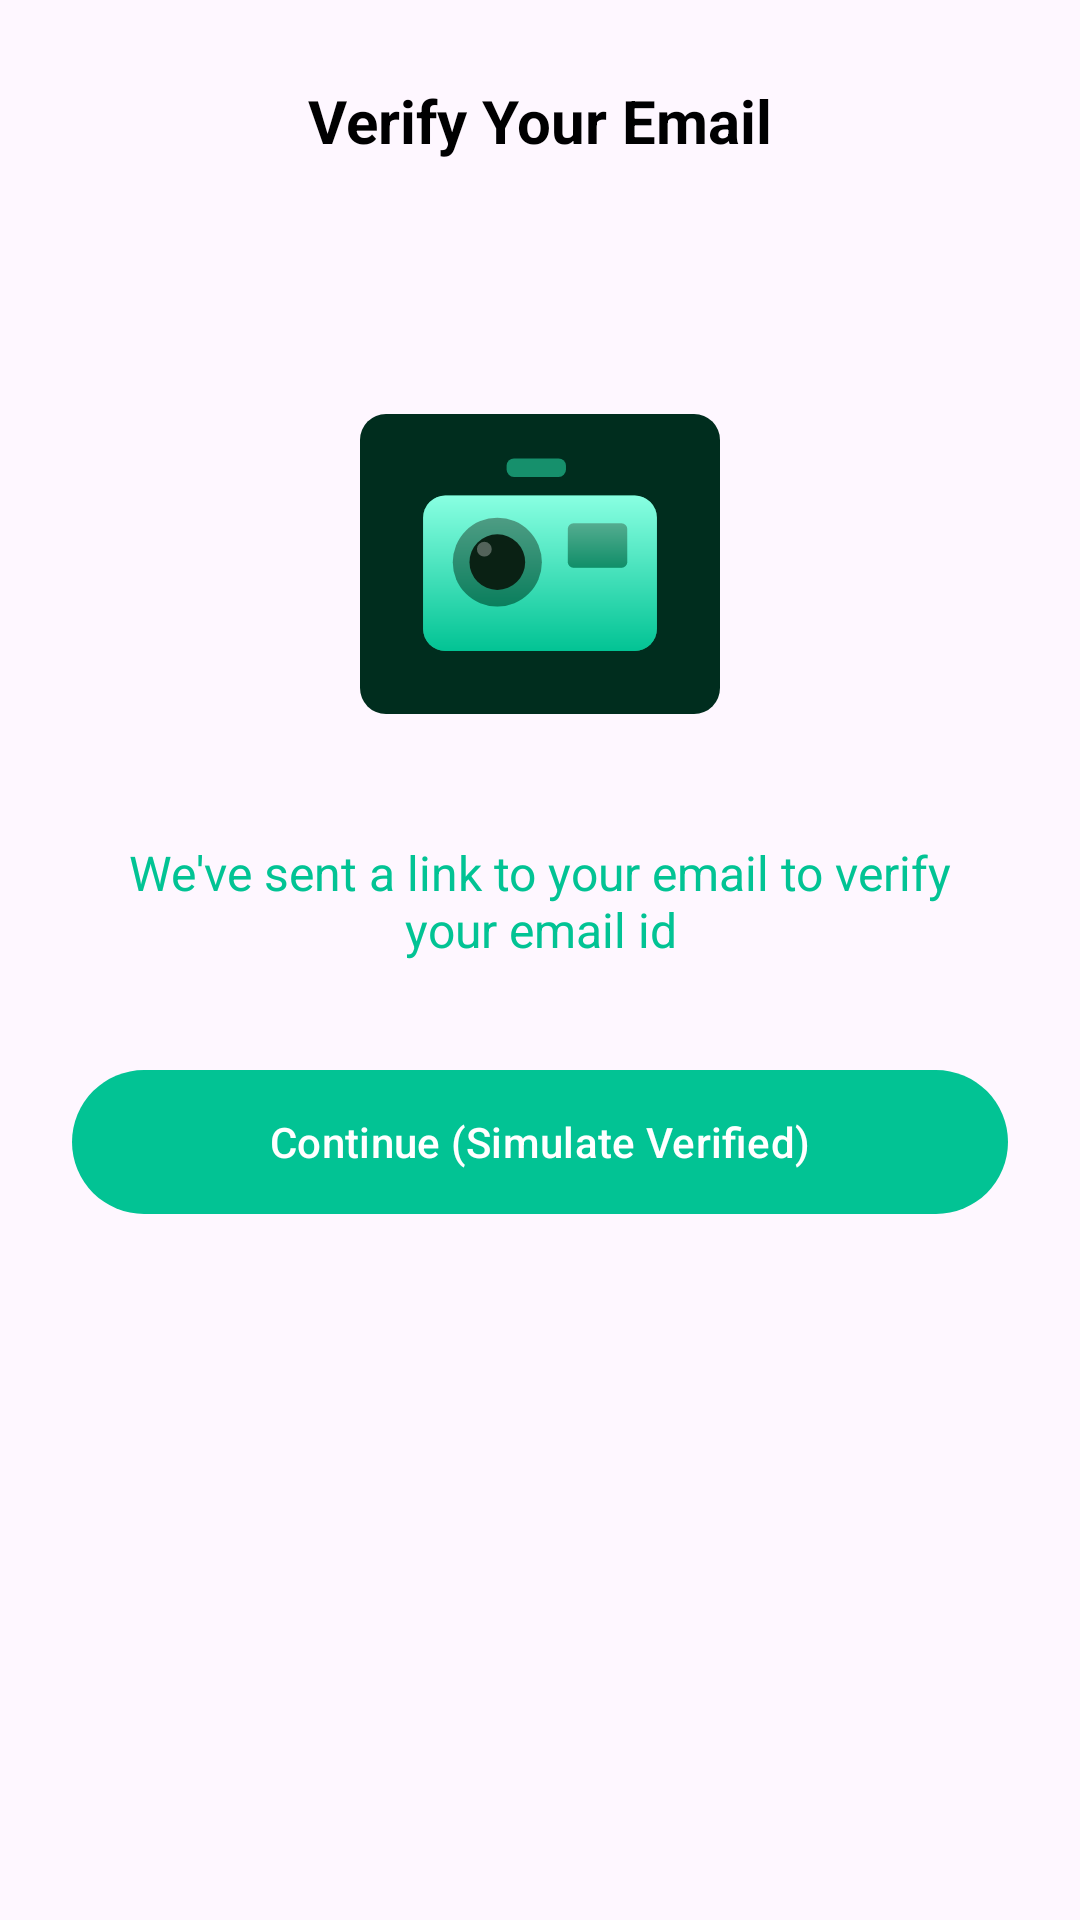

Screen size 1080w x 1920h. Icon name, then its box in pixels as (x1, y1, x2, y2):
camera: (360, 414, 720, 714)
